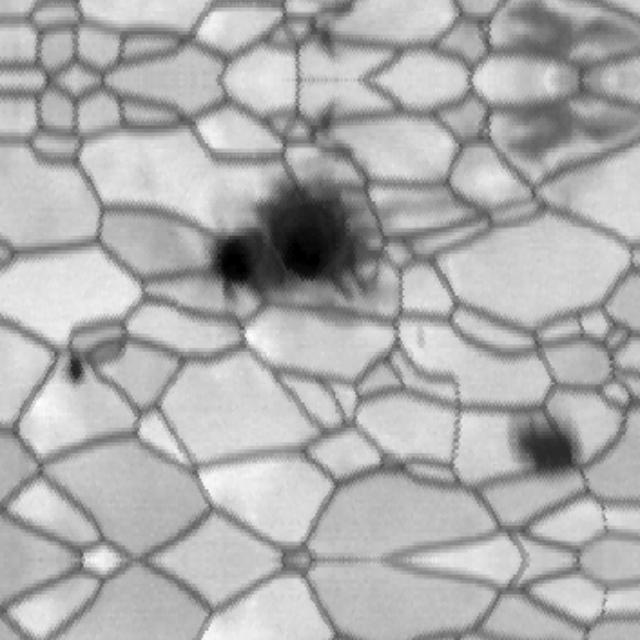good_void: (205, 175, 405, 316), (509, 83, 635, 170), (509, 0, 635, 78), (507, 407, 595, 483), (291, 103, 350, 154), (291, 7, 350, 58), (63, 343, 106, 400), (403, 328, 435, 358)
